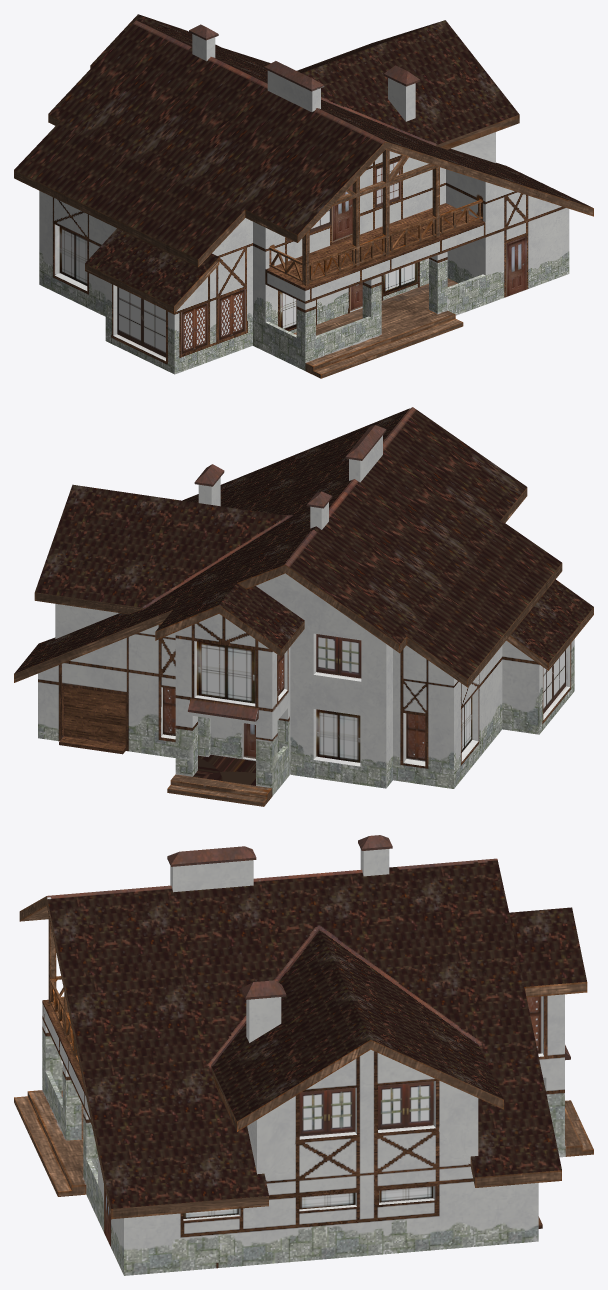
The model's file is lodge.glb.
The picture shows the model from 3 angles, top to bottom: view 1: azimuth 30°, elevation 25°; view 2: azimuth 150°, elevation 25°; view 3: azimuth 270°, elevation 25°; orthographic projection. The views are drawn at different scales.
Parts seen in each view (by area): view 1: Alpine chalet; view 2: Alpine chalet; view 3: Alpine chalet.
Boxes of the visible parts, x1=… form: Alpine chalet: x1=14, y1=14, x2=593, y2=378; Alpine chalet: x1=14, y1=407, x2=593, y2=806; Alpine chalet: x1=14, y1=835, x2=593, y2=1275.
Size of the model in its own units: 10.67 by 5.34 by 9.82.
1 material, 1 textured.
